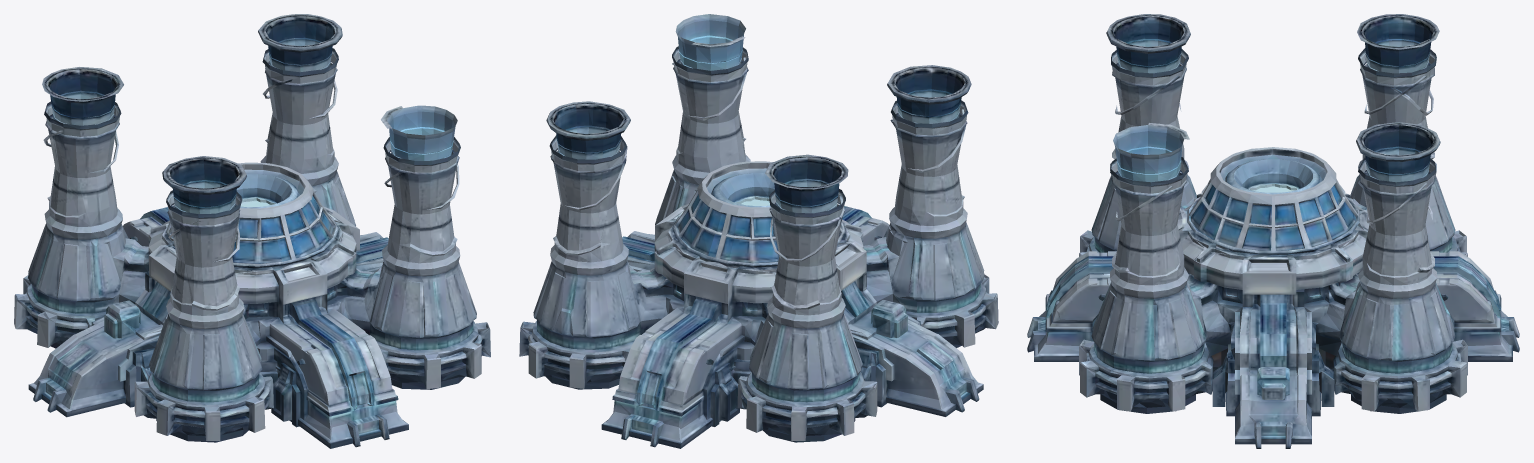
The model's file is power_core_LOD0.glb.
3 renders of one model, left to right at view 1: azimuth 30°, elevation 25°; view 2: azimuth 150°, elevation 25°; view 3: azimuth 270°, elevation 25°, orthographic. The views are drawn at different scales.
Parts seen in each view (by area): view 1: power_core_LOD0; view 2: power_core_LOD0; view 3: power_core_LOD0.
Part boxes in pixels (box(x1,y1,x2,y2)): power_core_LOD0: box(14, 14, 490, 448); power_core_LOD0: box(519, 14, 998, 448); power_core_LOD0: box(1027, 14, 1519, 448).
Size of the model in its own units: 0.9986 by 0.5706 by 0.9869.
1 material, 1 textured.
